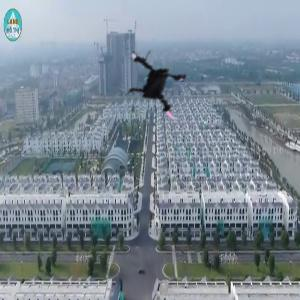drone: (112, 36, 206, 130)
